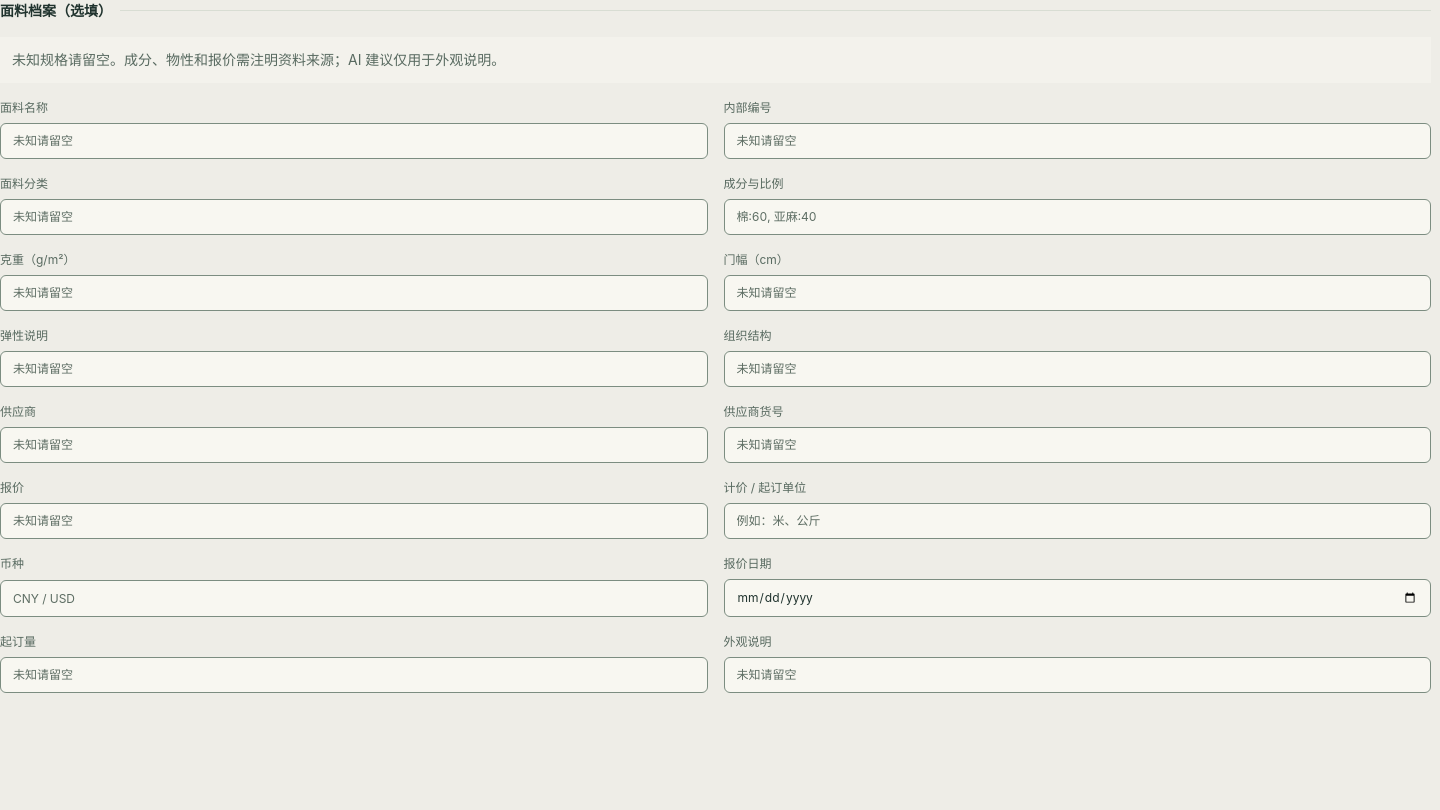
Test: 面料档案编辑 › 填写规格后才能选择资料来源，AI来源仅出现在外观说明
Type "180" into the number field labelled "克重（g/m²）". click: (354, 293)
box: [0,275,708,311]
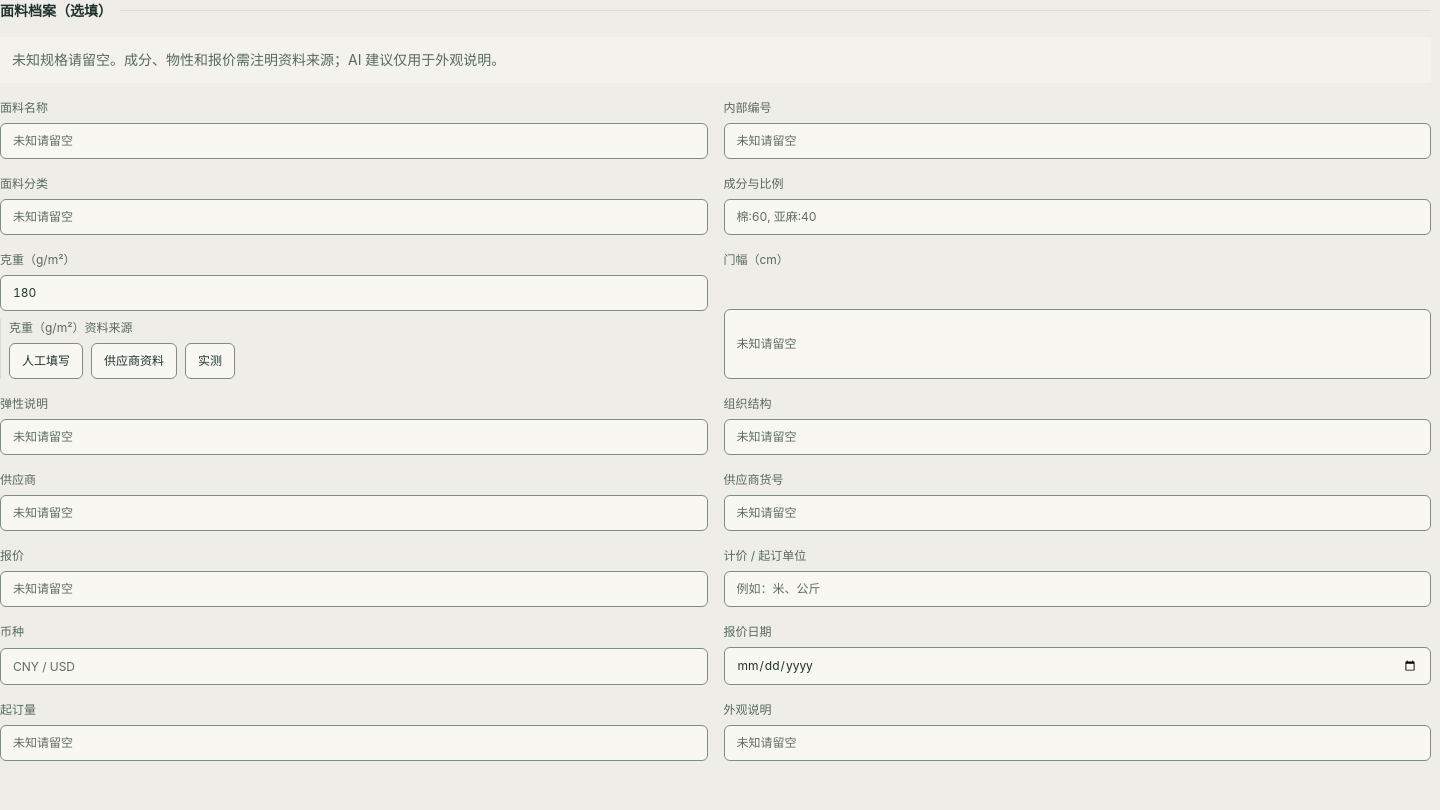
Expected: the element "克重（g/m²）资料来源" does not show "AI 外观建议"
Click the radio button labelled "供应商资料". click: (134, 361)
box: [91,343,177,379]
(page scrolled)
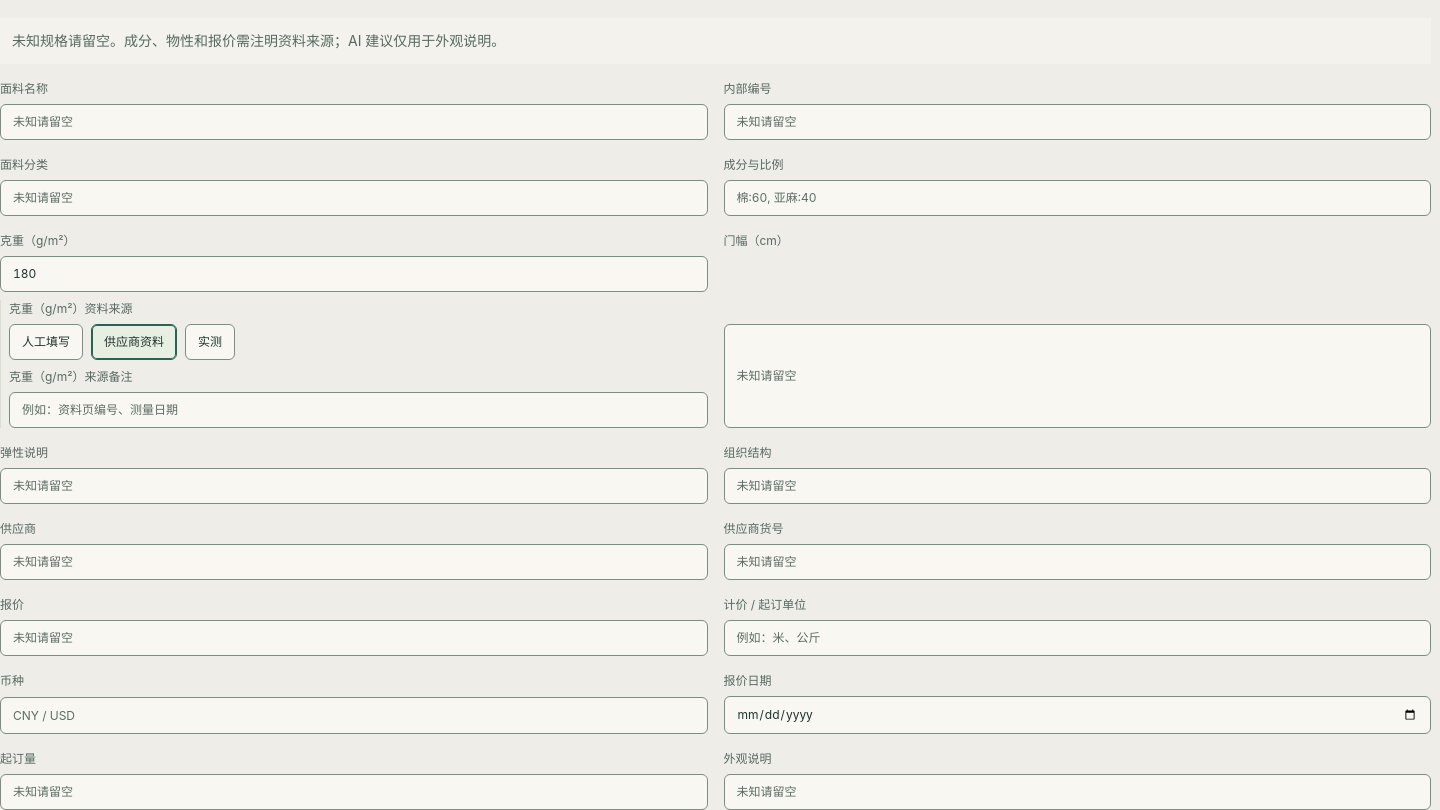
Now the field labelled "克重（g/m²）来源备注" is shown, box [9,392,708,428]
Type "表面可见细密纹理" into the field labelled "外观说明". click: (1077, 792)
box: [724,774,1431,809]
(page scrolled)
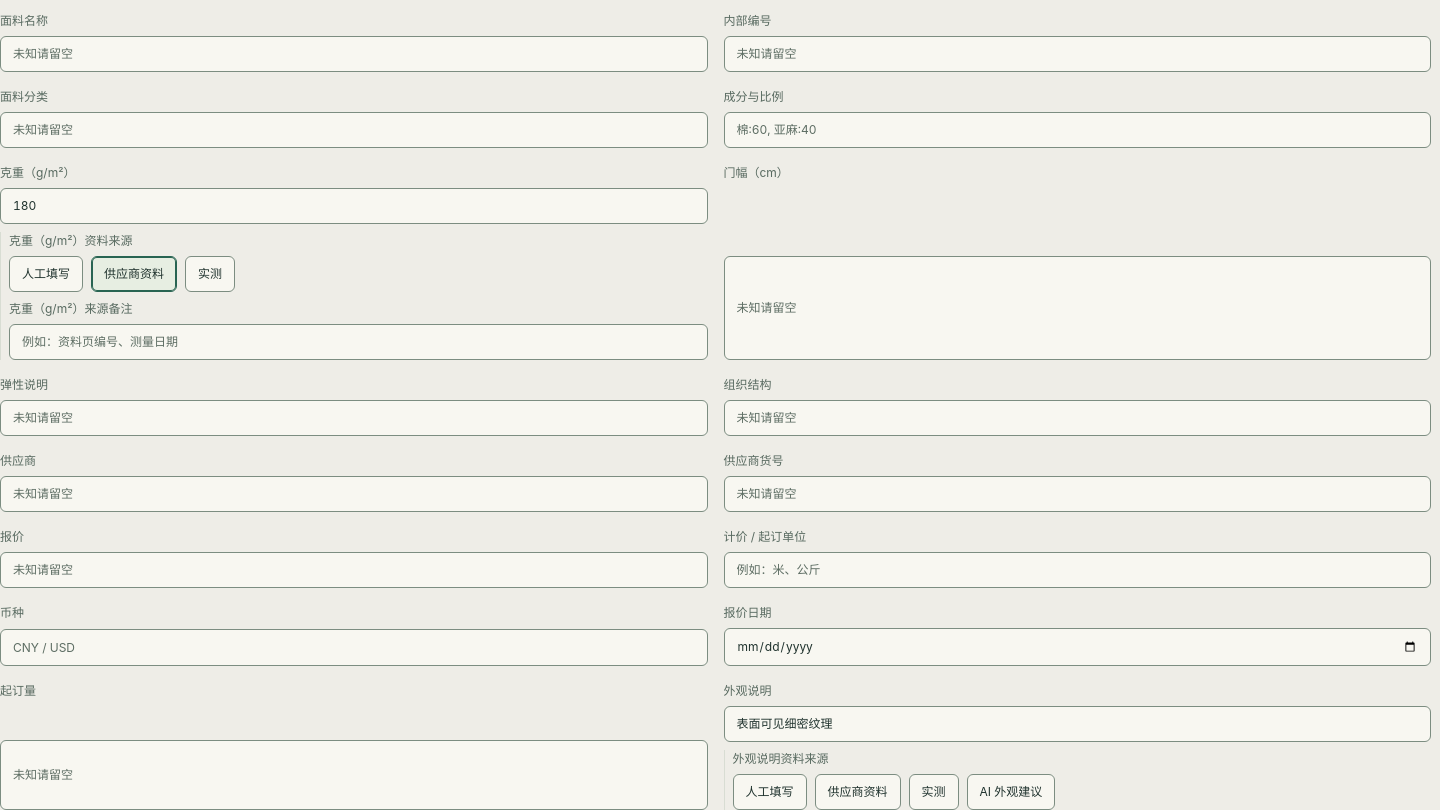
Now the element named "外观说明资料来源" shows "AI 外观建议", box [966,774,1055,809]
